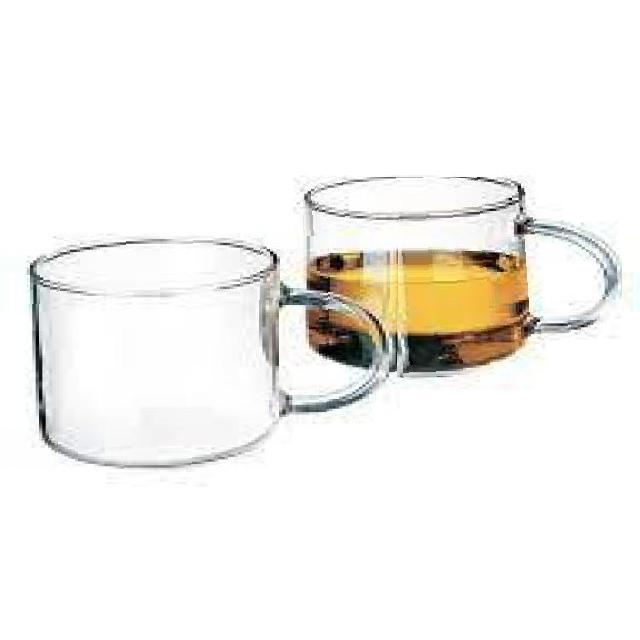Glass: (24, 236, 398, 472), (301, 178, 622, 382)
